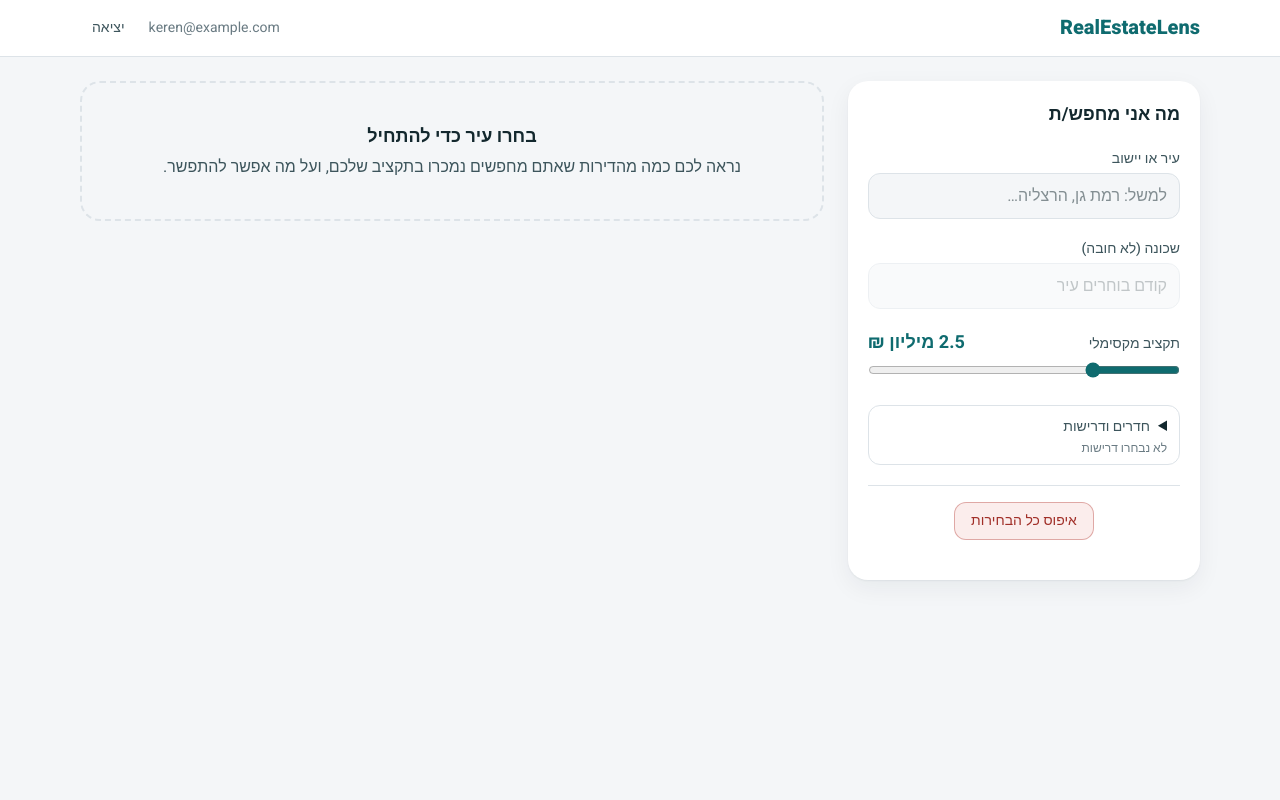
Scenario: logout › asks for confirmation; cancel keeps the user logged in
Click the button "יציאה" at (108, 28), box [80,12,137,44]
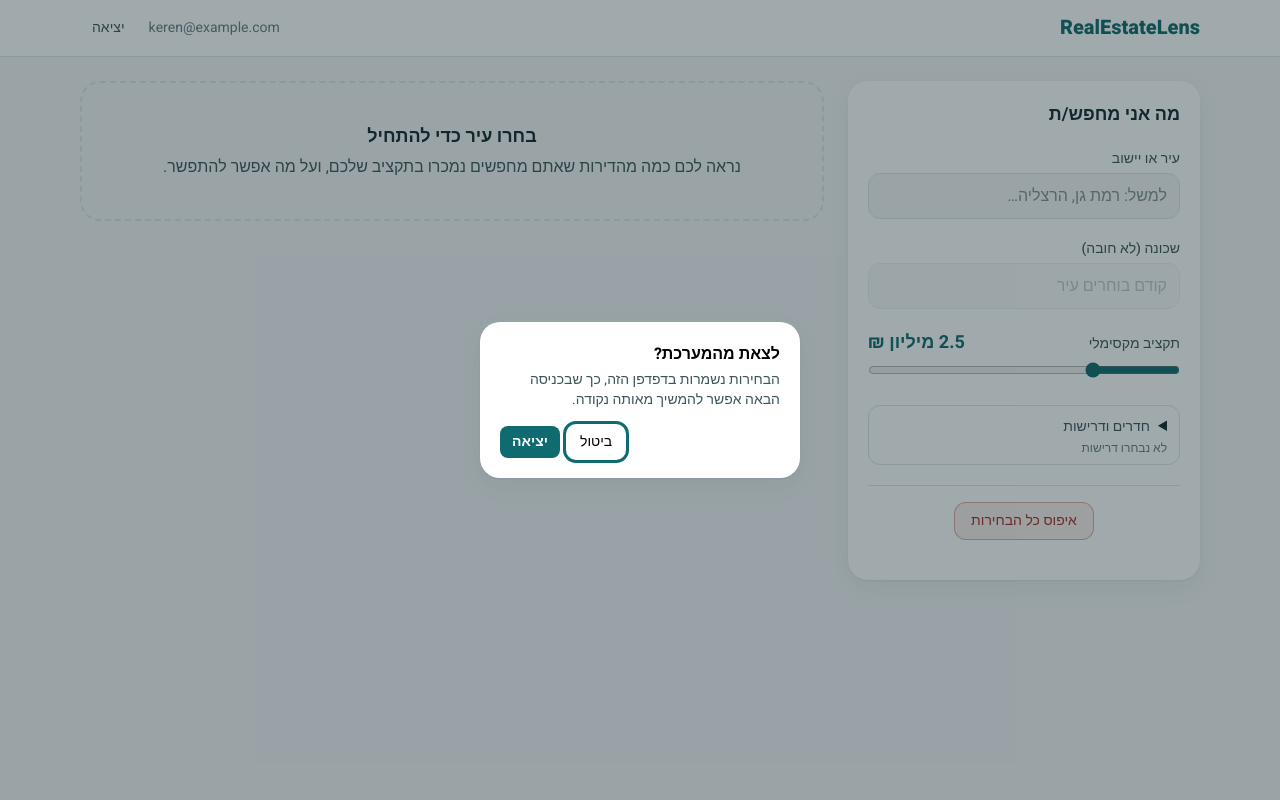
expect the dialog "לצאת מהמערכת?" is shown: met, box [480,322,800,478]
Click the button "ביטול" at (596, 442), box [568,426,624,458]
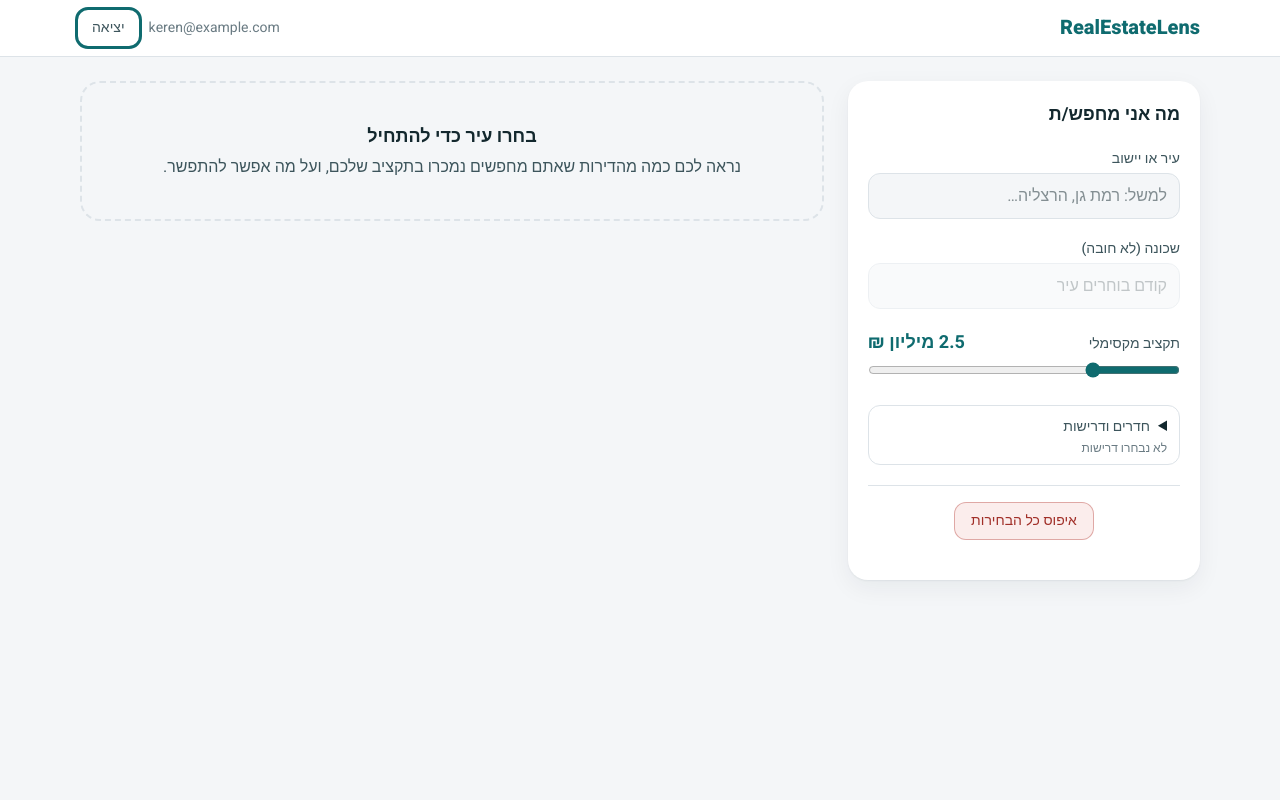
expect the text "כניסה" is gone: met
